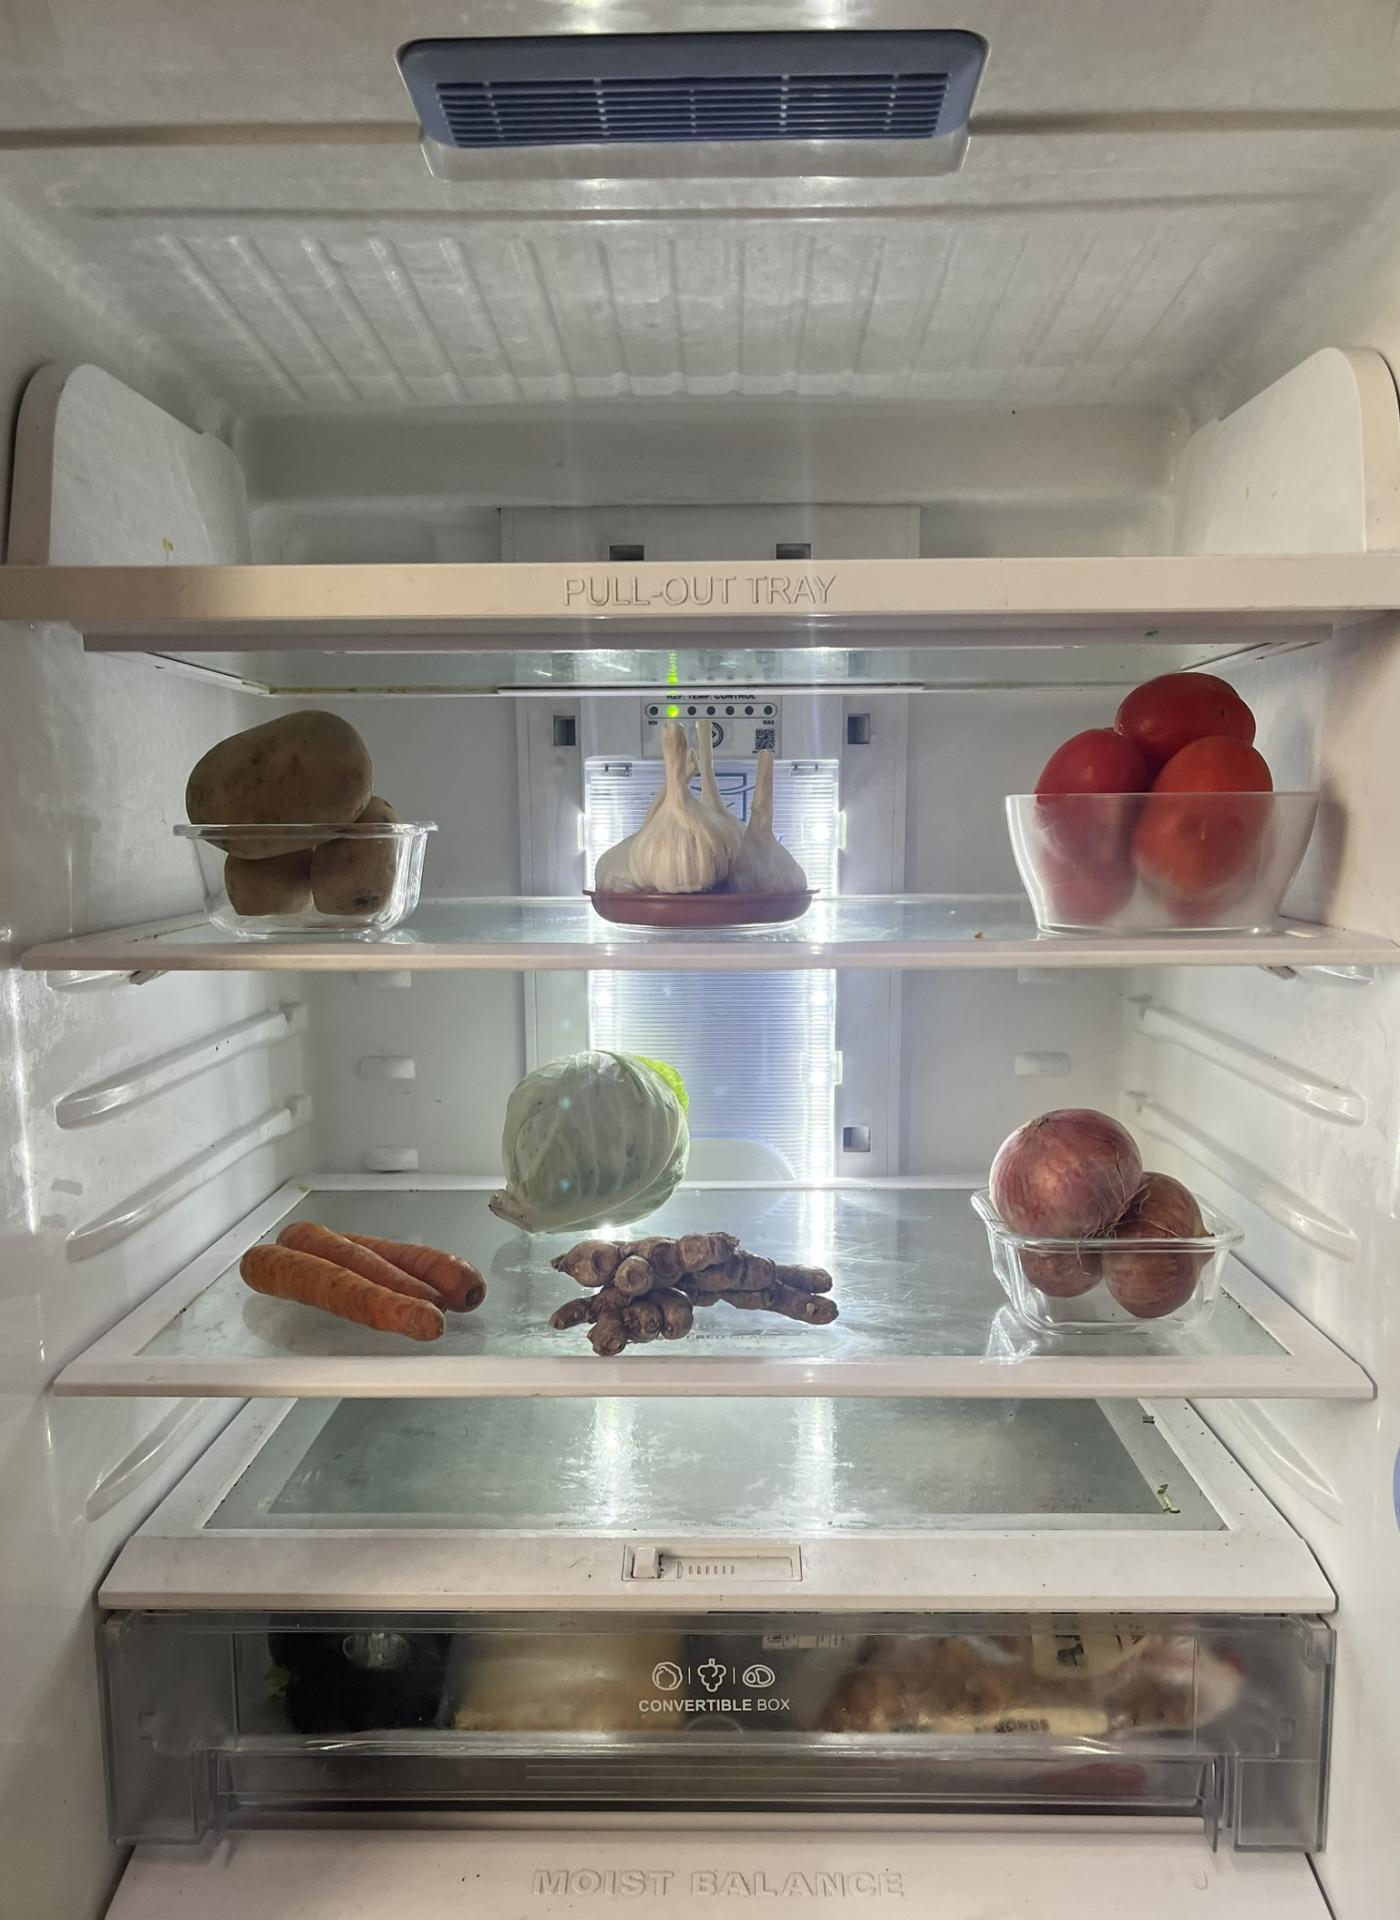cabbage: (489, 1038, 687, 1237)
carrots: (228, 1206, 504, 1343)
garlic: (586, 713, 808, 897)
ginger: (531, 1228, 847, 1351)
onion: (978, 1100, 1221, 1325)
potato: (173, 687, 413, 921)
tomato: (1033, 665, 1285, 935)
